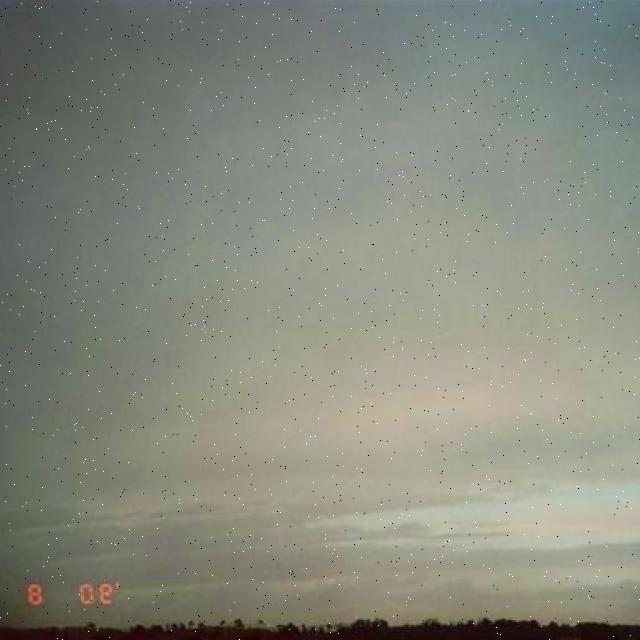Ns: (1, 163, 640, 539)
